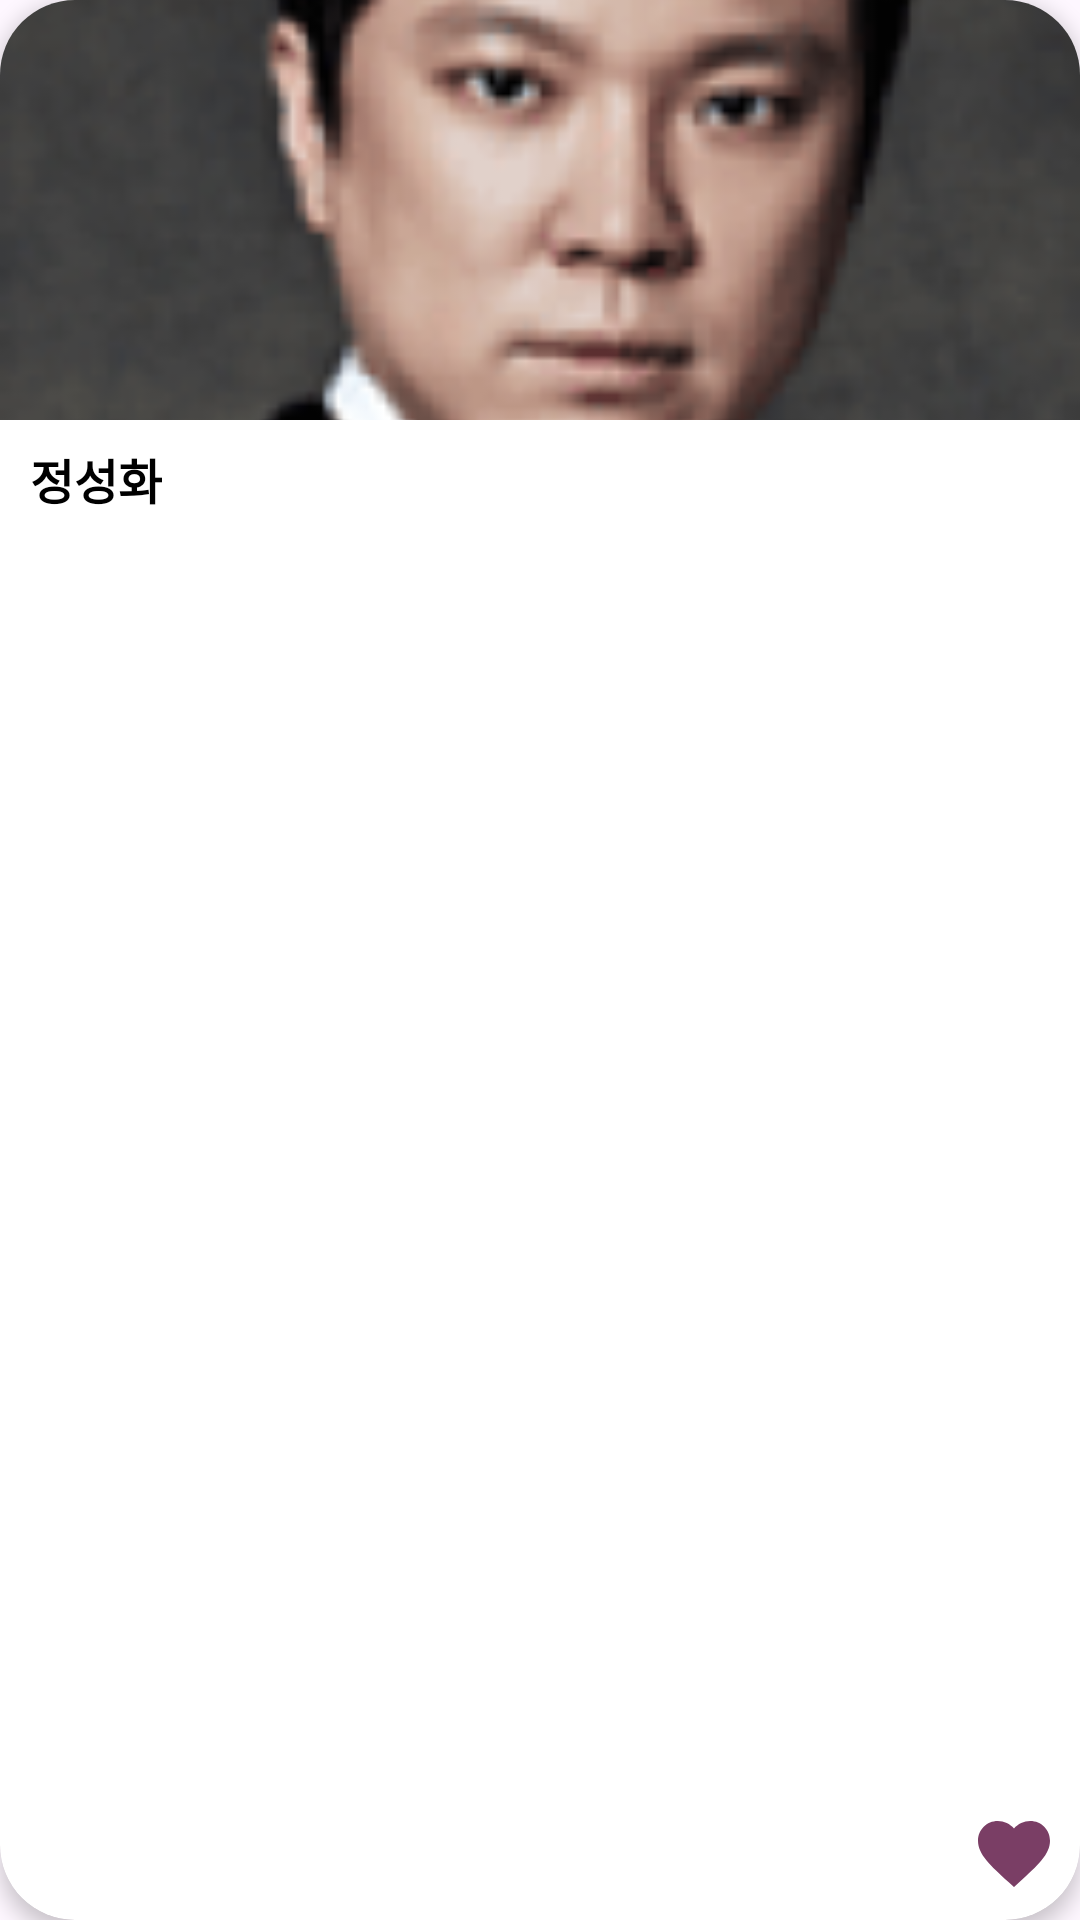

Locate icon controls on the screen. Image size 1080*1920, boxes as (x1, y1, x2, y2).
heart: (978, 1821, 1050, 1887)
